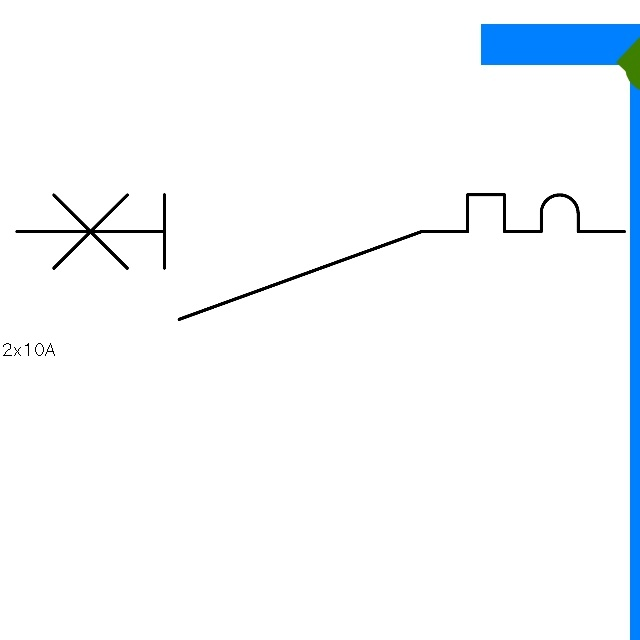interruptor_termomagnetico: (1, 179, 640, 335)
